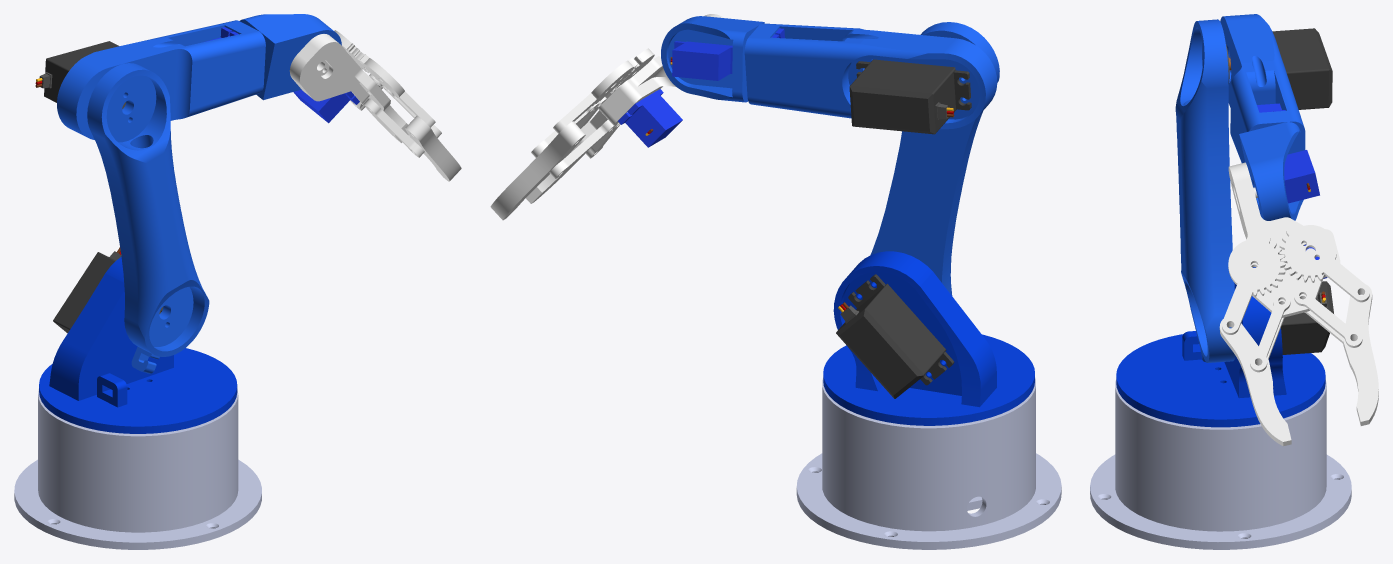
Rendered from Robotic_Arm_Embedded.gltf.
The picture shows the model from 3 angles, left to right: view 1: azimuth 30°, elevation 25°; view 2: azimuth 150°, elevation 25°; view 3: azimuth 270°, elevation 25°; orthographic projection. The views are drawn at different scales.
Visible parts, largest first — view 1: Base, Arm 002, Waist, Arm 02 v3, Gripper base, Arm 03, Servo Motor MG996R008, Gripper 002, Servo Motor MG996R013, gear1, Servo Motor Micro 9g016, grip link 1; view 2: Base, Waist, Arm 02 v3, Arm 002, Servo Motor MG996R008, Servo Motor MG996R013, Arm 03, Gripper 1, Gripper base, Servo Motor Micro 9g009, Servo Motor Micro 9g016, gear2 (+1 smaller); view 3: Base, Arm 002, Waist, Arm 02 v3, Arm 03, Gripper base, Servo Motor MG996R013, gear1, gear2, Gripper 002, Gripper 1, Servo Motor MG996R008 (+3 smaller).
Boxes of the visible parts, x1,y1,x2,y2 form: Base: (14,389,261,549); Arm 002: (87,63,209,356); Waist: (39,256,237,433); Arm 02 v3: (57,20,265,139); Gripper base: (289,34,390,110); Arm 03: (239,14,341,100); Servo Motor MG996R008: (53,251,163,333); Gripper 002: (405,116,461,181); Servo Motor MG996R013: (39,41,125,108); gear1: (359,54,435,127); Servo Motor Micro 9g016: (293,89,349,123); grip link 1: (364,98,424,157); Base: (796,377,1061,549); Waist: (823,251,1034,425); Arm 02 v3: (744,23,997,129); Arm 002: (870,22,999,295); Servo Motor MG996R008: (836,274,954,398); Servo Motor MG996R013: (849,59,971,134); Arm 03: (661,16,764,102); Gripper 1: (490,121,585,220); Gripper base: (589,14,723,129); Servo Motor Micro 9g009: (672,41,732,80); Servo Motor Micro 9g016: (614,85,682,147); gear2: (553,58,637,133); Base: (1090,379,1351,549); Arm 002: (1175,19,1235,362); Waist: (1116,267,1325,427); Arm 02 v3: (1220,14,1305,163); Arm 03: (1239,122,1304,220); Gripper base: (1228,162,1340,317); Servo Motor MG996R013: (1226,28,1332,109); gear1: (1222,237,1285,334); gear2: (1279,225,1369,302); Gripper 002: (1219,319,1291,446); Gripper 1: (1343,284,1378,425); Servo Motor MG996R008: (1281,281,1333,354).
Size of the model in its own units: 0.2593 by 0.2361 by 0.1338.
